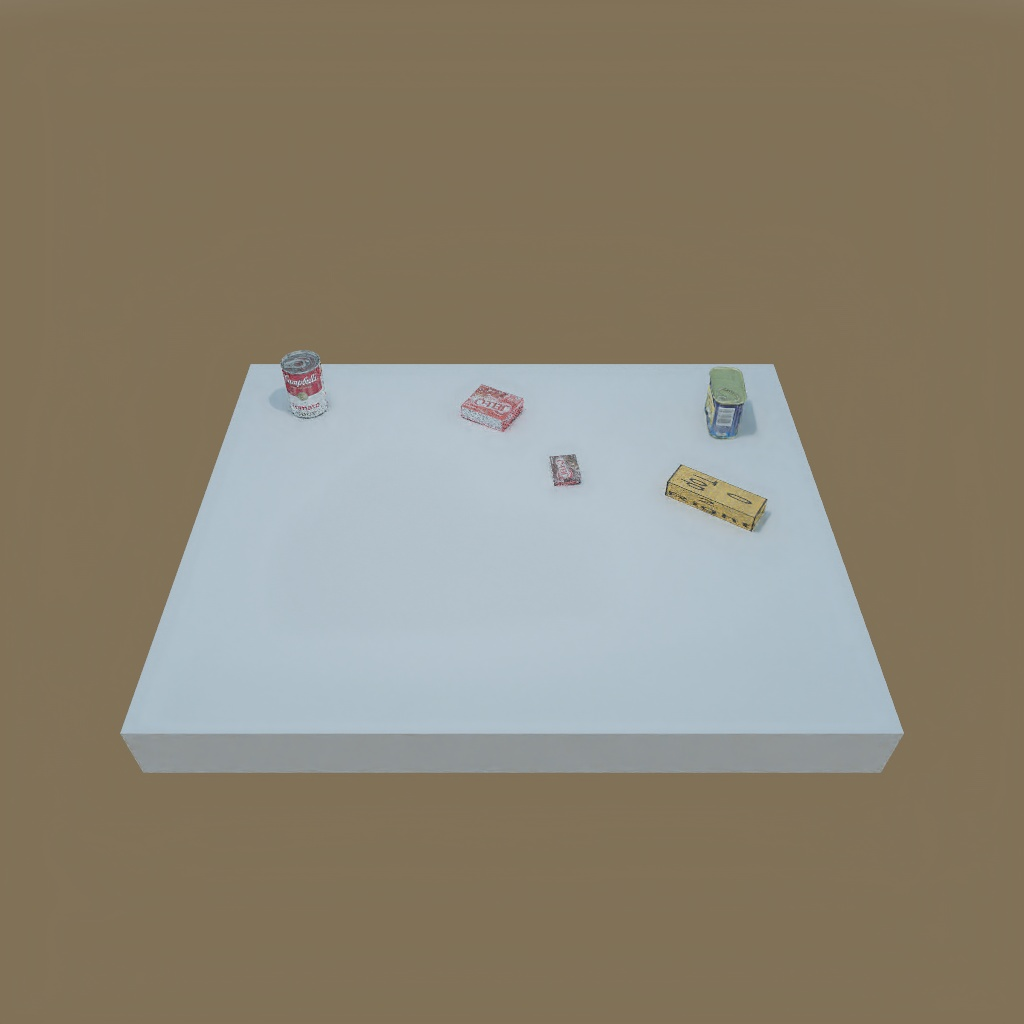gelatin_box: (458, 384, 523, 432)
jenga: (664, 463, 767, 535)
potted_meat_can: (705, 368, 745, 440)
pudding_box: (548, 451, 582, 487)
tomato_soup_can: (278, 349, 333, 418)
